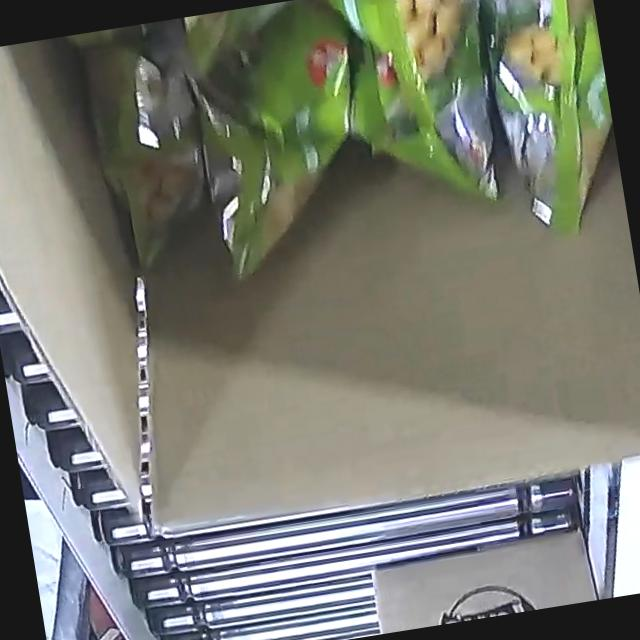yogurt: (65, 0, 632, 329)
